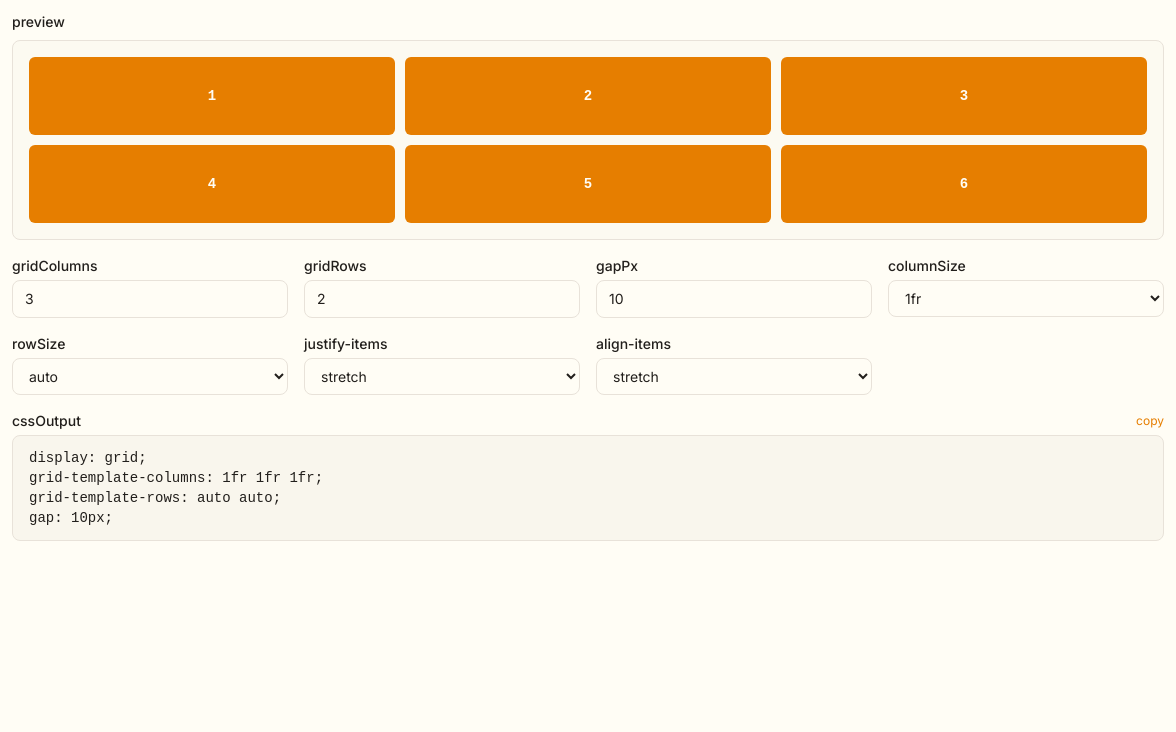
it: CssGridGenerator › changes column count
Replace the text in the number field labelled "gridColumns" with "4" at coordinates (150, 299), box left=12, top=280, right=288, bottom=318
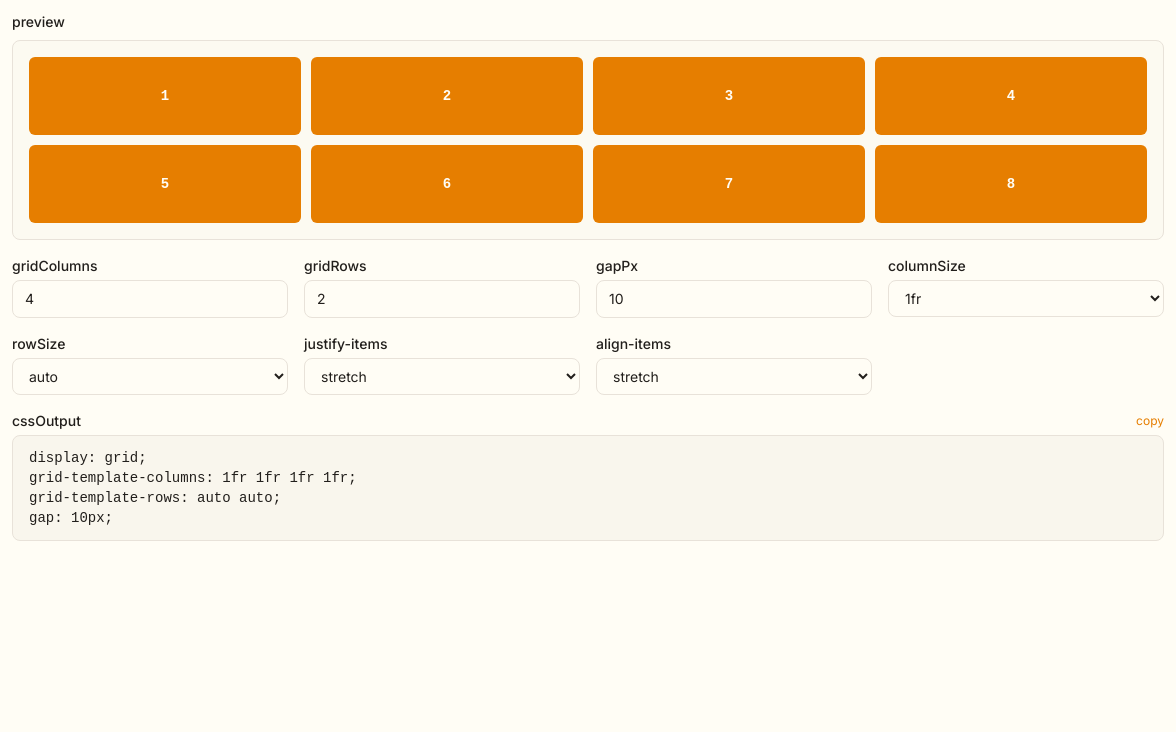
Expected: the text "grid-template-columns: 1fr 1fr 1fr 1fr" is shown, left=29, top=450, right=357, bottom=526
